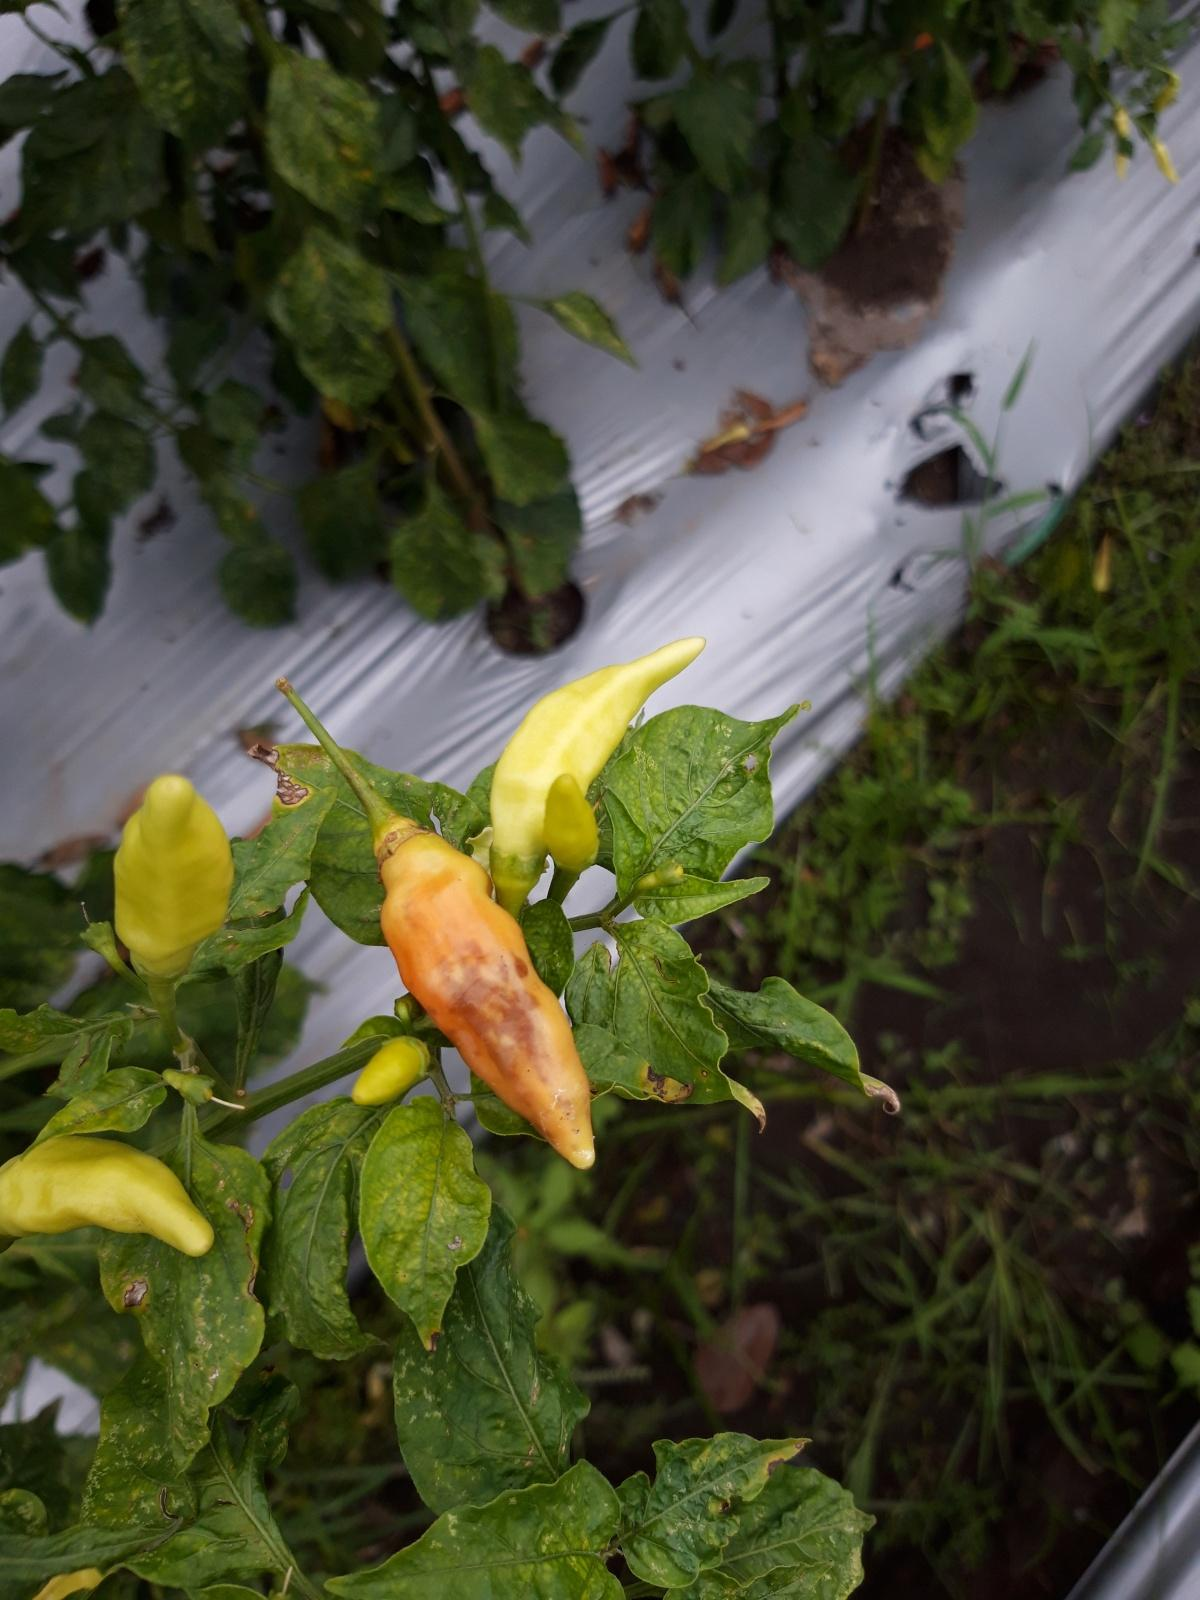cabai_normal: (488, 634, 710, 894), (3, 1136, 218, 1261), (111, 774, 236, 986)
lalat_buah: (368, 826, 596, 1173)
